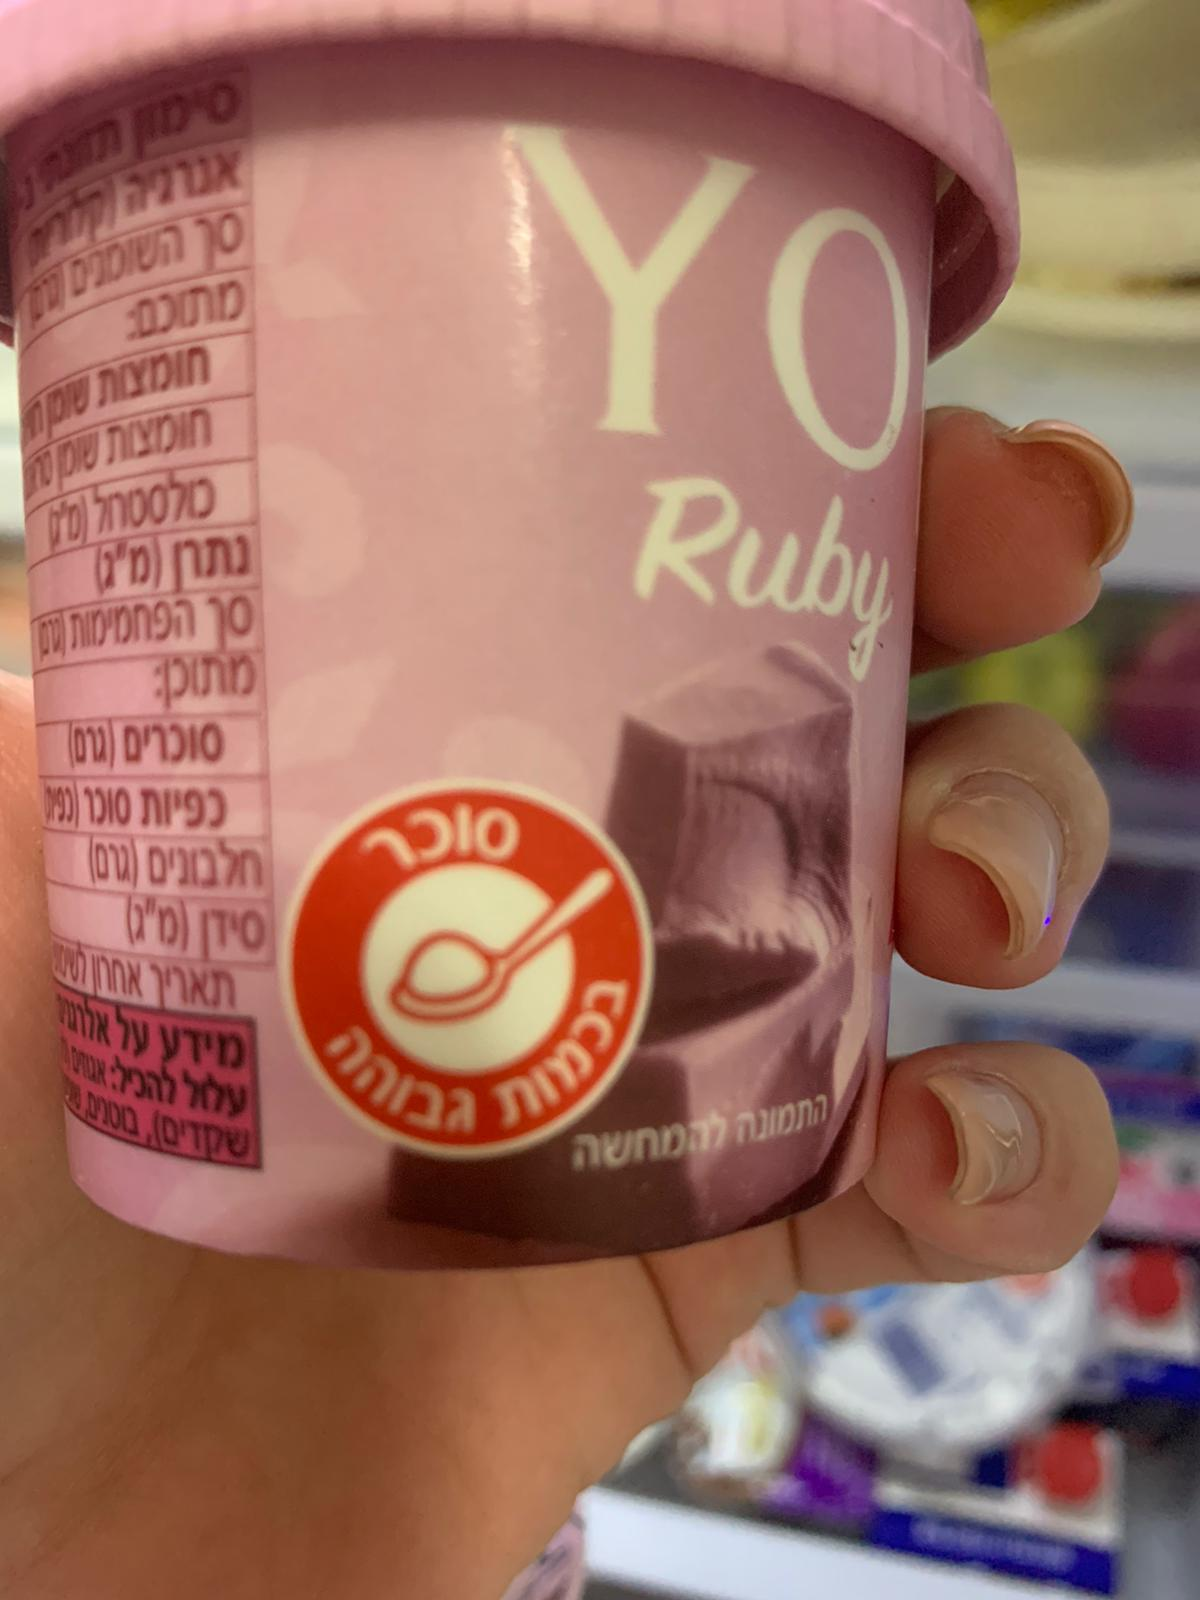sugar: (279, 779, 657, 1163)
